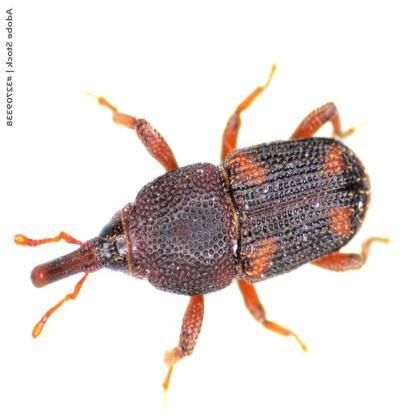rice-bug: (31, 123, 370, 348)
